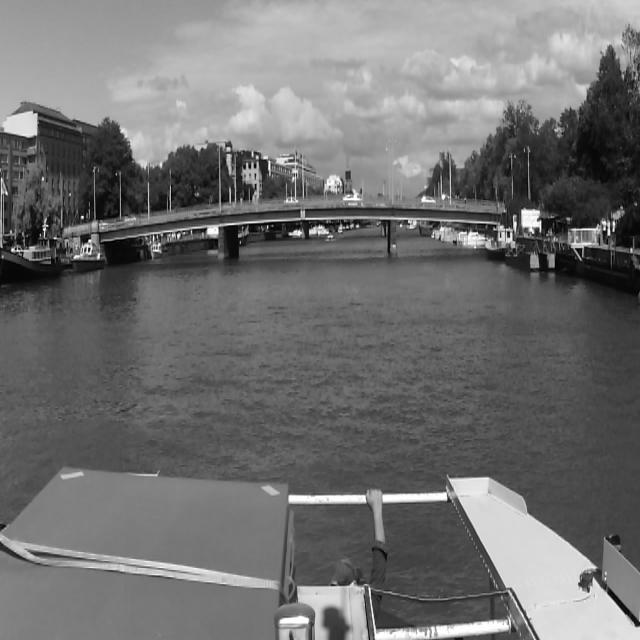ship: (0, 214, 62, 288), (72, 237, 110, 276)
